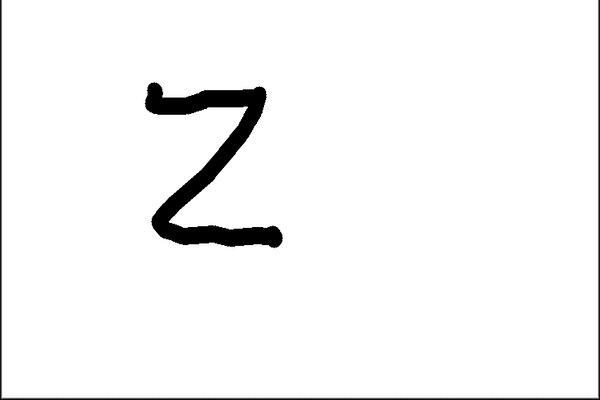Z: (137, 72, 292, 261)
